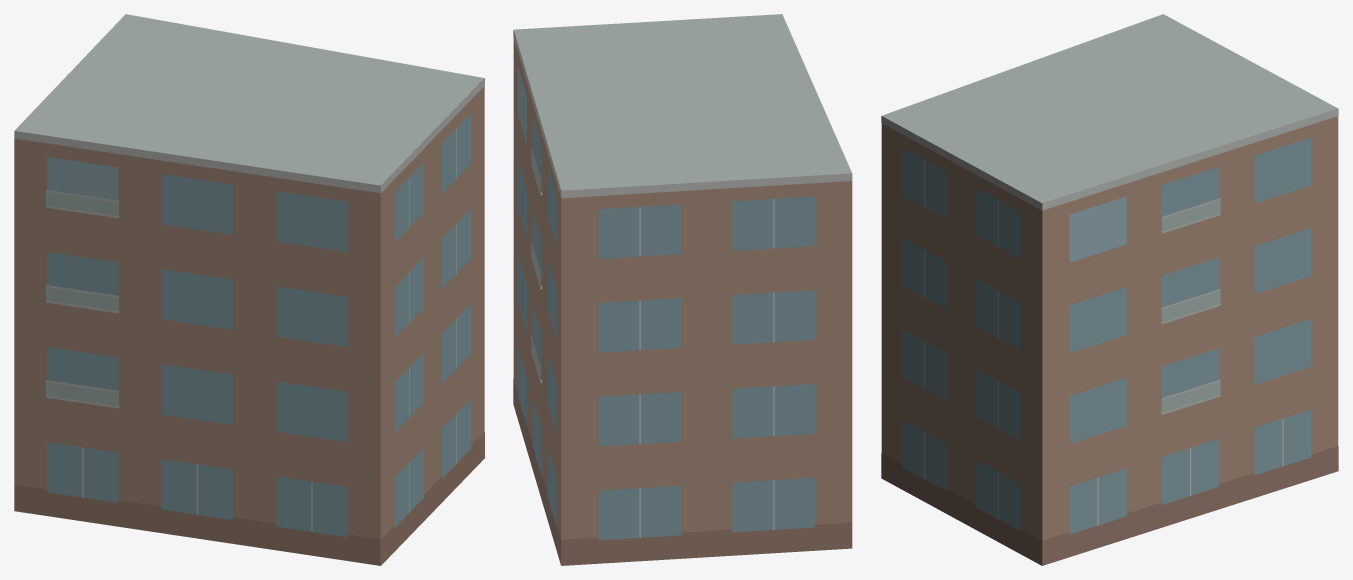
File: survey-upis-32957208.glb
The picture shows the model from 3 angles, left to right: view 1: azimuth 30°, elevation 25°; view 2: azimuth 150°, elevation 25°; view 3: azimuth 270°, elevation 25°; orthographic projection. The views are drawn at different scales.
Parts seen in each view (by area): view 1: survey-upis-32957208.tmp; view 2: survey-upis-32957208.tmp; view 3: survey-upis-32957208.tmp.
Boxes of the visible parts, bbox=[...] form: survey-upis-32957208.tmp: bbox=[14, 14, 484, 565]; survey-upis-32957208.tmp: bbox=[513, 14, 852, 565]; survey-upis-32957208.tmp: bbox=[881, 14, 1338, 565].
Bounding box in the file's own units: 13.56 × 12.1 × 13.83.
